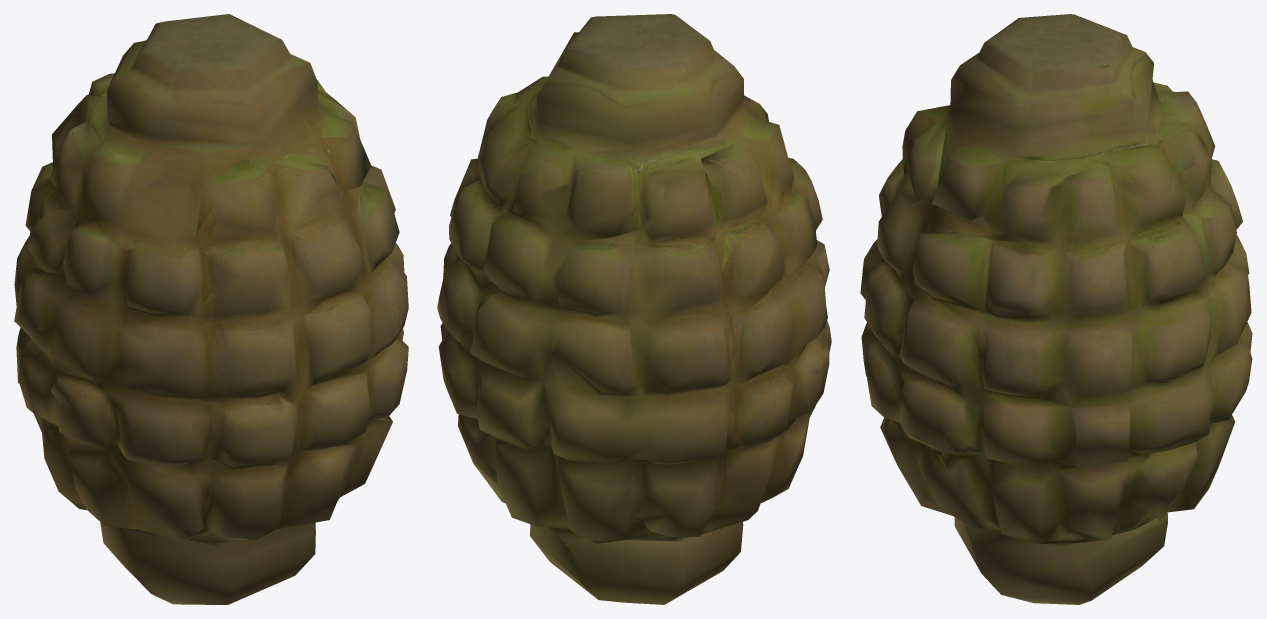
Rendered from Granade.fbx.
The picture shows the model from 3 angles, left to right: view 1: azimuth 30°, elevation 25°; view 2: azimuth 150°, elevation 25°; view 3: azimuth 270°, elevation 25°; orthographic projection.
Parts seen in each view (by area): view 1: input; view 2: input; view 3: input.
Boxes of the visible parts, <box> form: input: <box>14,14,408,604</box>; input: <box>437,14,831,604</box>; input: <box>860,14,1252,604</box>.
Bounding box in the file's own units: 129 × 199 × 129.
Materials: 1 (1 with a texture image).
